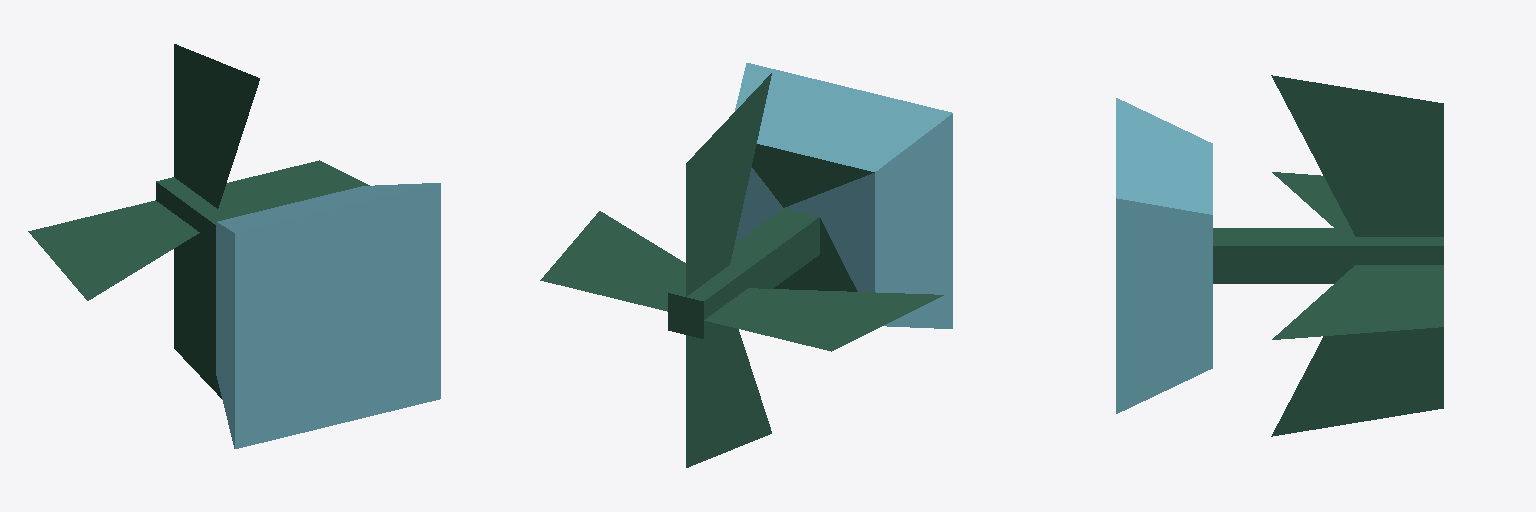
Rendered from flower4.obj.
The picture shows the model from 3 angles: view 1: azimuth 30°, elevation 25°; view 2: azimuth 150°, elevation 25°; view 3: azimuth 270°, elevation 25°; orthographic projection.
Visible parts, largest first — view 1: Mesh3_Flower_Yellow_Model, Mesh4_Flower_Yellow_Model, Mesh2_Flower_Yellow_Model, Mesh1_Flower_Yellow_Model, Mesh5_Flower_Yellow_Model; view 2: Mesh3_Flower_Yellow_Model, Mesh4_Flower_Yellow_Model, Mesh2_Flower_Yellow_Model, Mesh1_Flower_Yellow_Model, Mesh5_Flower_Yellow_Model; view 3: Mesh3_Flower_Yellow_Model, Mesh4_Flower_Yellow_Model, Mesh1_Flower_Yellow_Model, Mesh5_Flower_Yellow_Model, Mesh2_Flower_Yellow_Model.
Boxes of the visible parts, x1,y1,x2,y2 form: Mesh3_Flower_Yellow_Model: [156, 177, 440, 448]; Mesh4_Flower_Yellow_Model: [174, 44, 259, 208]; Mesh2_Flower_Yellow_Model: [28, 200, 199, 300]; Mesh1_Flower_Yellow_Model: [174, 242, 221, 398]; Mesh5_Flower_Yellow_Model: [223, 160, 369, 213]; Mesh3_Flower_Yellow_Model: [668, 63, 952, 338]; Mesh4_Flower_Yellow_Model: [686, 73, 771, 296]; Mesh2_Flower_Yellow_Model: [704, 288, 943, 351]; Mesh1_Flower_Yellow_Model: [686, 325, 771, 467]; Mesh5_Flower_Yellow_Model: [540, 211, 685, 311]; Mesh3_Flower_Yellow_Model: [1116, 98, 1443, 413]; Mesh4_Flower_Yellow_Model: [1271, 75, 1443, 236]; Mesh1_Flower_Yellow_Model: [1271, 327, 1443, 436]; Mesh5_Flower_Yellow_Model: [1272, 265, 1443, 339]; Mesh2_Flower_Yellow_Model: [1272, 172, 1350, 227].
Size of the model in its own units: 2.29 by 2.29 by 1.88.